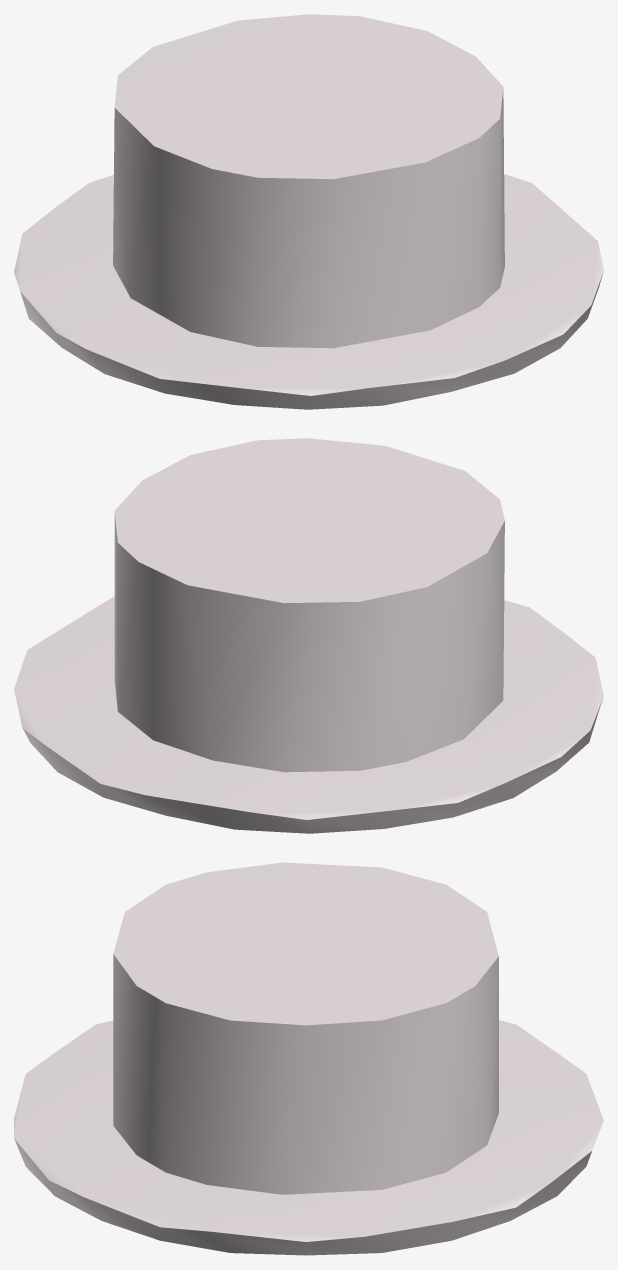
Rendered from LightTop0003.obj.
The picture shows the model from 3 angles, top to bottom: view 1: azimuth 30°, elevation 25°; view 2: azimuth 150°, elevation 25°; view 3: azimuth 270°, elevation 25°; orthographic projection.
Bounding box in the file's own units: 0.1 × 0.042 × 0.101.
1 material, 1 textured.
